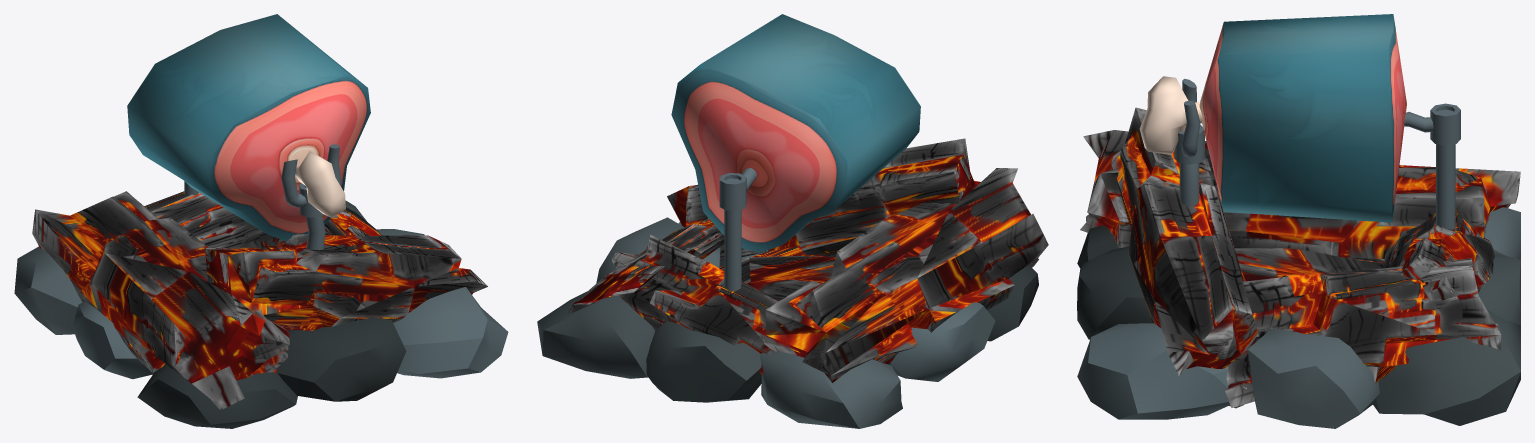
File: fant_campfire_2.obj
The picture shows the model from 3 angles, left to right: view 1: azimuth 30°, elevation 25°; view 2: azimuth 150°, elevation 25°; view 3: azimuth 270°, elevation 25°; orthographic projection. The views are drawn at different scales.
Visible parts, largest first — view 1: fant_campfire_Mesh; view 2: fant_campfire_Mesh; view 3: fant_campfire_Mesh.
Boxes of the visible parts, <box> form: fant_campfire_Mesh: <box>14,14,508,428</box>; fant_campfire_Mesh: <box>537,14,1048,428</box>; fant_campfire_Mesh: <box>1077,14,1520,428</box>.
Size of the model in its own units: 3 by 2.31 by 3.
